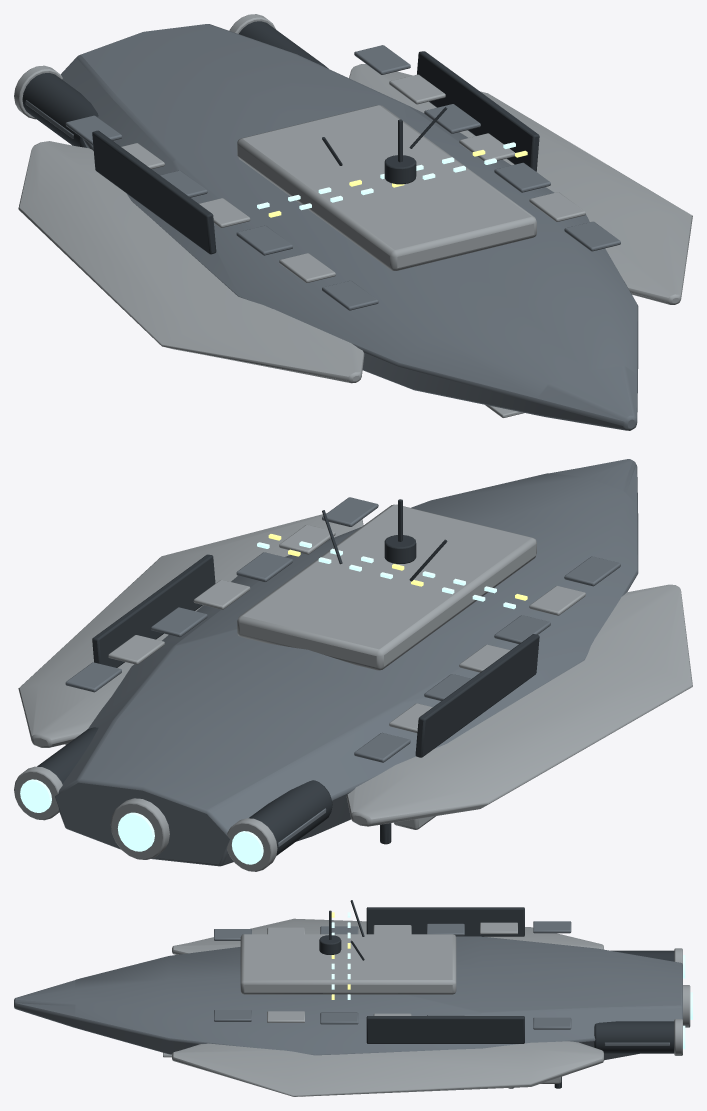
File: QW_CommandShip_LOD0.fbx
The picture shows the model from 3 angles, top to bottom: view 1: azimuth 30°, elevation 25°; view 2: azimuth 150°, elevation 25°; view 3: azimuth 270°, elevation 25°; orthographic projection. The views are drawn at different scales.
Visible parts, largest first — view 1: QW_CommandShip_LOD0; view 2: QW_CommandShip_LOD0; view 3: QW_CommandShip_LOD0.
Part boxes in pixels (left/top/right/bottom): QW_CommandShip_LOD0: left=14, top=14, right=692, bottom=430; QW_CommandShip_LOD0: left=14, top=459, right=692, bottom=871; QW_CommandShip_LOD0: left=14, top=900, right=692, bottom=1096.
Size of the model in its own units: 13.82 by 5.08 by 22.33.
